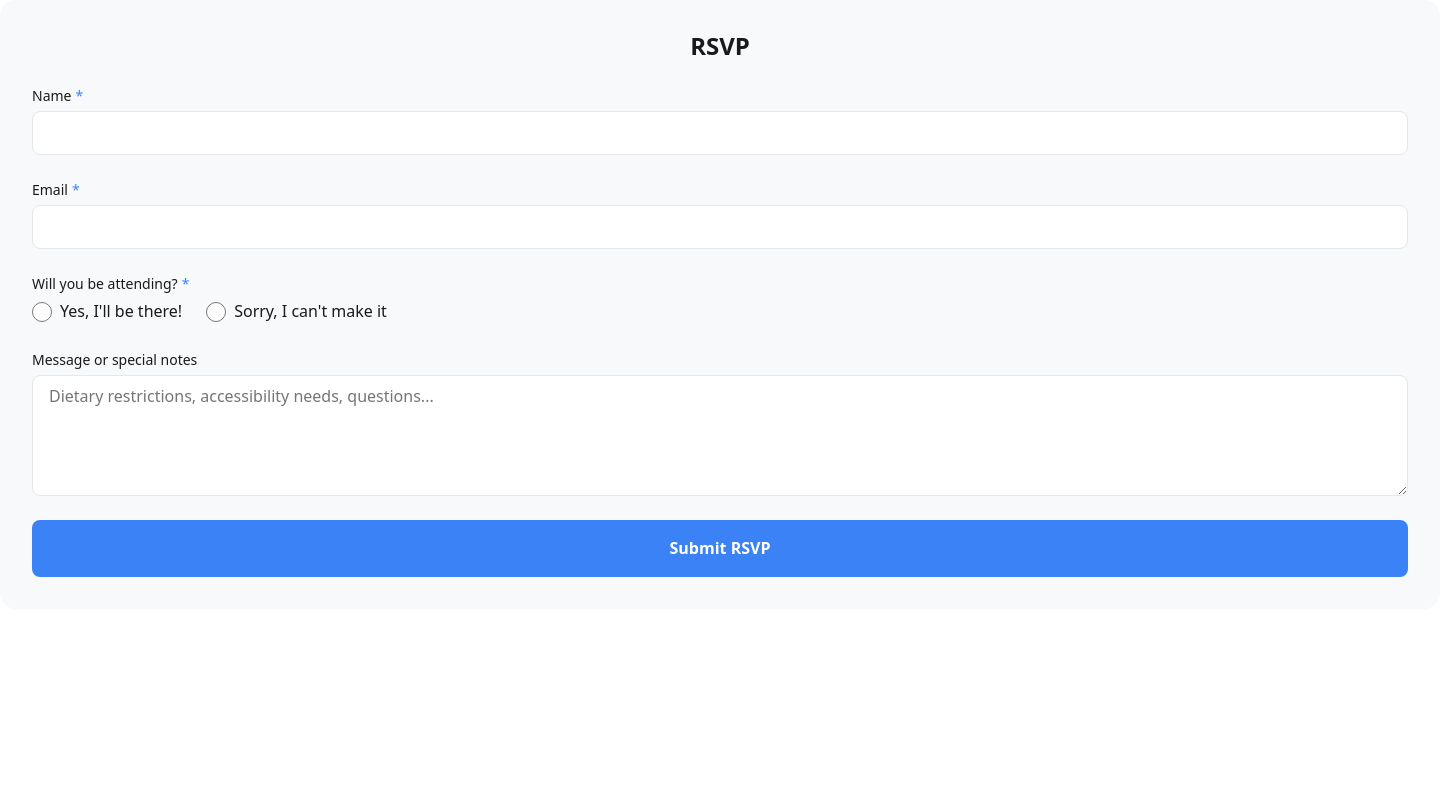
Scenario: RSVPForm › shows conditional fields when attending is yes
This screenshot has width=1440, height=810.
expect the field labelled "number of guests" is not shown: met
Click the radio button labelled "Yes, I'll be there!" at coordinates (42, 312), box [32,302,52,322]
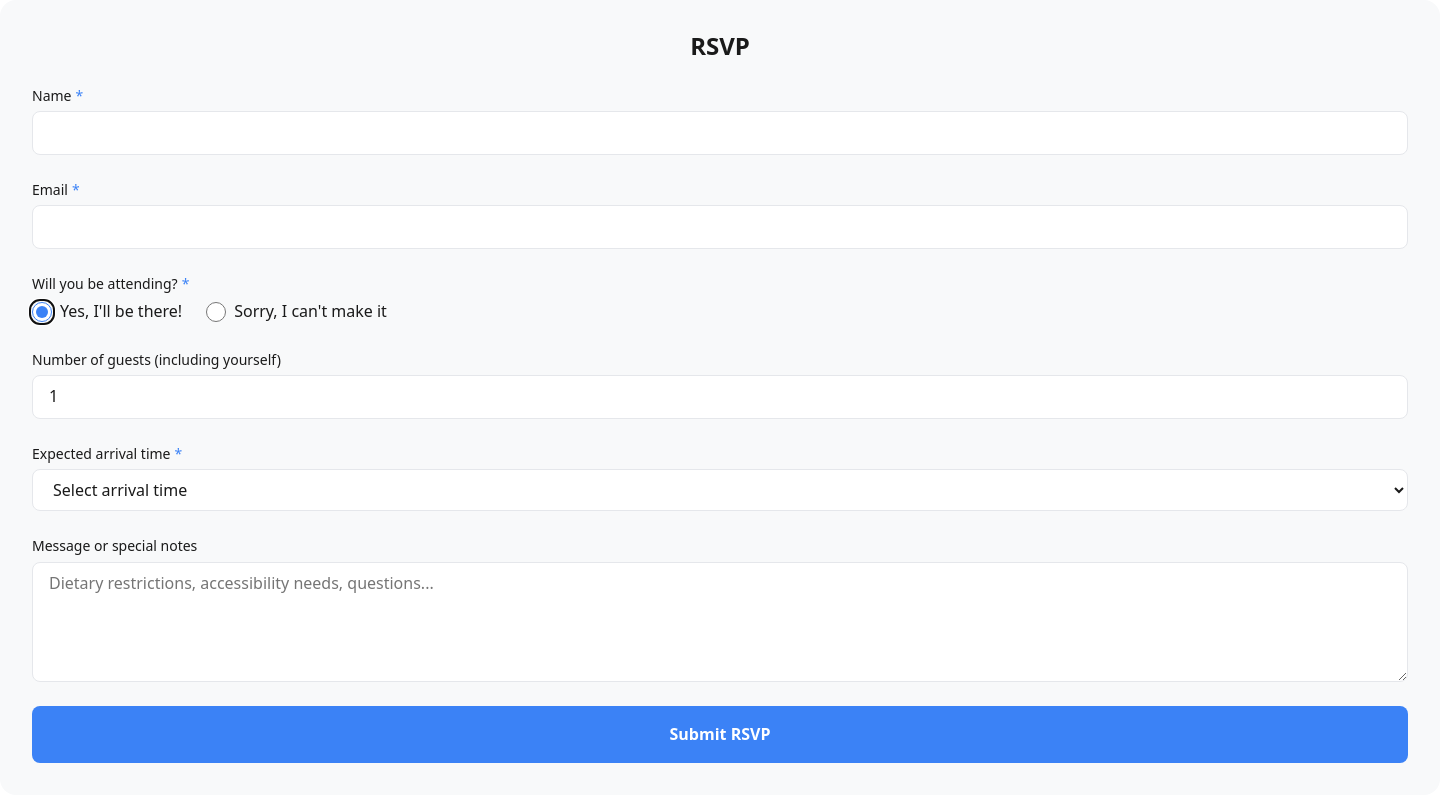
expect the number field labelled "Number of guests (including yourself)" is shown: met, box [32,375,1408,419]
expect the dropdown labelled "Expected arrival time*" is shown: met, box [32,469,1408,511]
